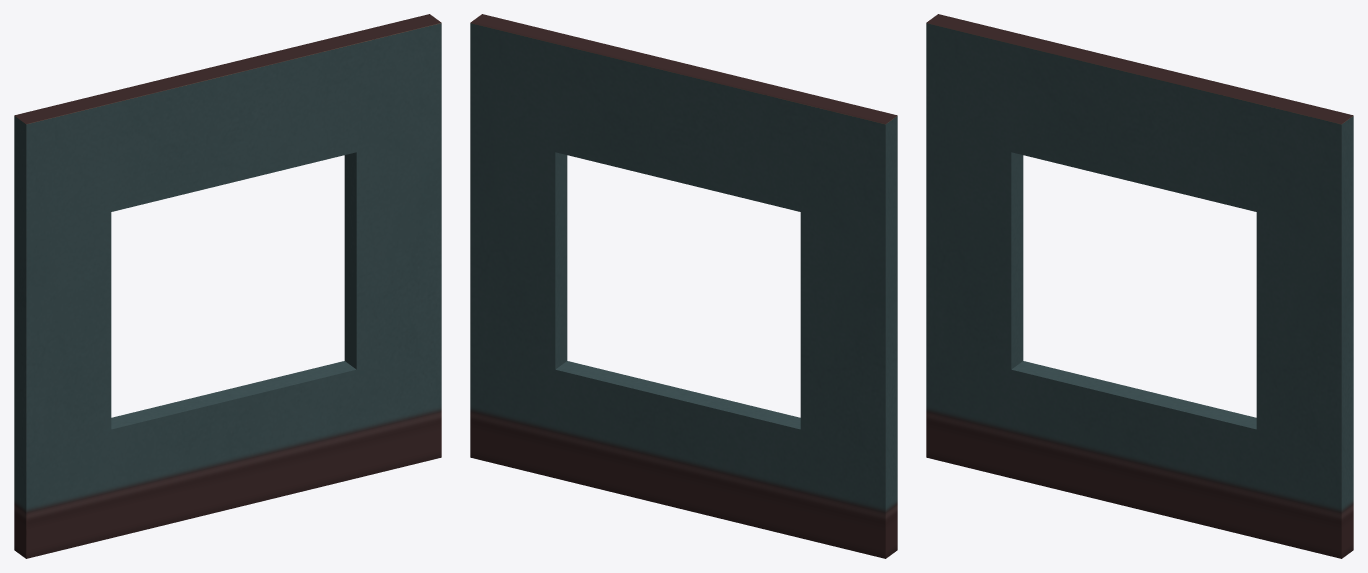
The model's file is Wall_4_C.fbx.
3 renders of one model, left to right at view 1: azimuth 30°, elevation 25°; view 2: azimuth 150°, elevation 25°; view 3: azimuth 330°, elevation 25°, orthographic.
Visible parts, largest first — view 1: pCube10; view 2: pCube10; view 3: pCube10.
Part boxes in pixels (<box>): pCube10: <box>14,14,441,558</box>; pCube10: <box>470,14,897,558</box>; pCube10: <box>926,14,1353,558</box>.
Size of the model in its own units: 4 by 4 by 0.2.
